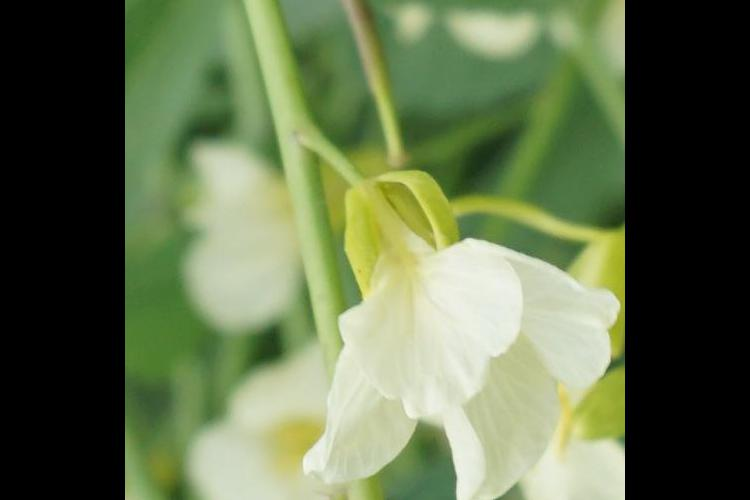white: (313, 164, 612, 498), (189, 327, 385, 500)
